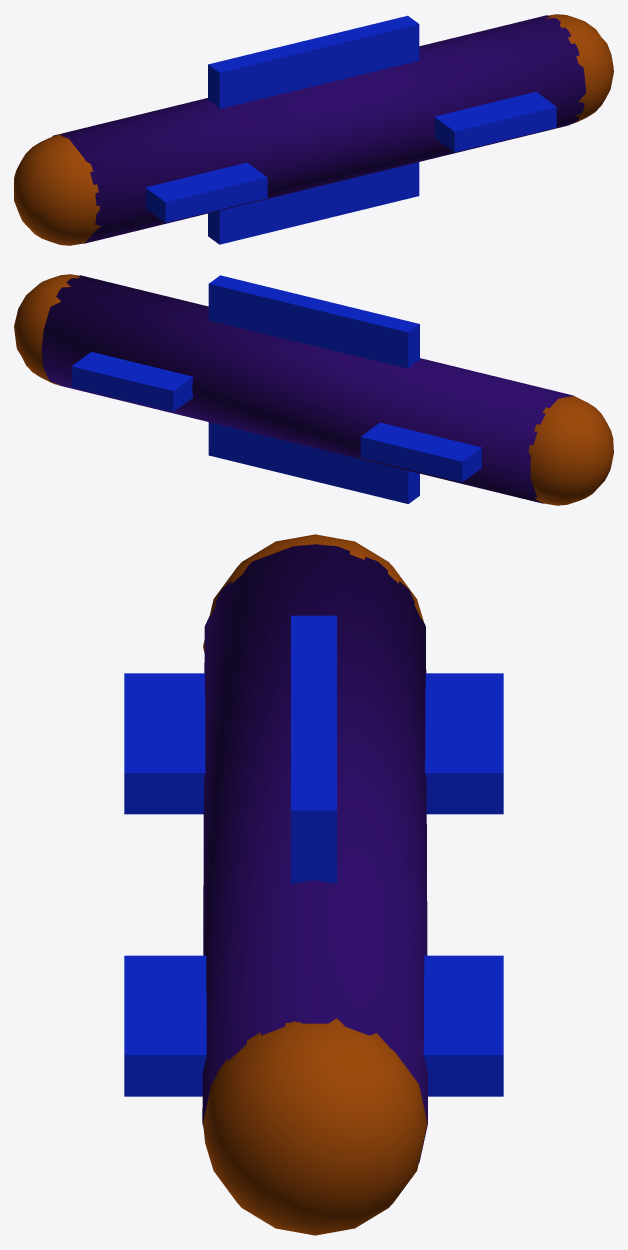
Rendered from Spinning_Walls.glb.
3 renders of one model, top to bottom at view 1: azimuth 30°, elevation 25°; view 2: azimuth 150°, elevation 25°; view 3: azimuth 270°, elevation 25°, orthographic. The views are drawn at different scales.
Parts seen in each view (by area): view 1: Spinning_Walls; view 2: Spinning_Walls; view 3: Spinning_Walls.
Boxes of the visible parts, left/top/right/bottom form: Spinning_Walls: left=14, top=14, right=613, bottom=245; Spinning_Walls: left=14, top=274, right=613, bottom=505; Spinning_Walls: left=124, top=534, right=503, bottom=1235.
Size of the model in its own units: 6 by 1.68 by 1.68.
